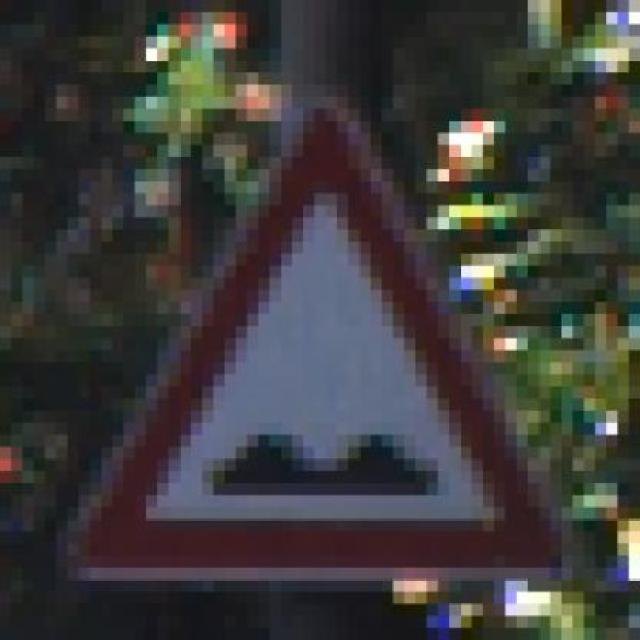Uneven Road: (50, 96, 568, 592)
